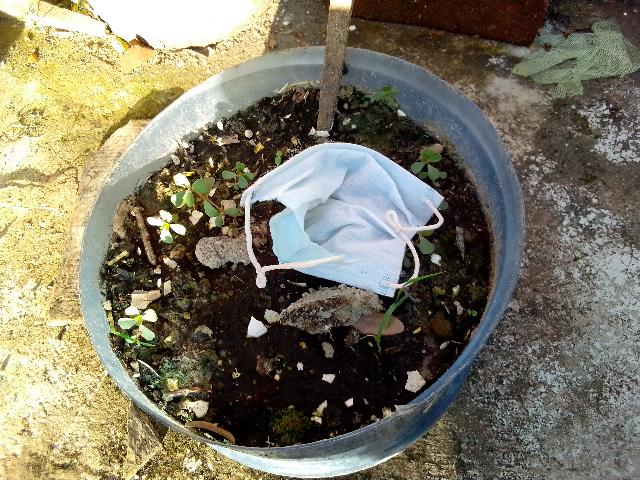mask: (236, 121, 449, 307)
